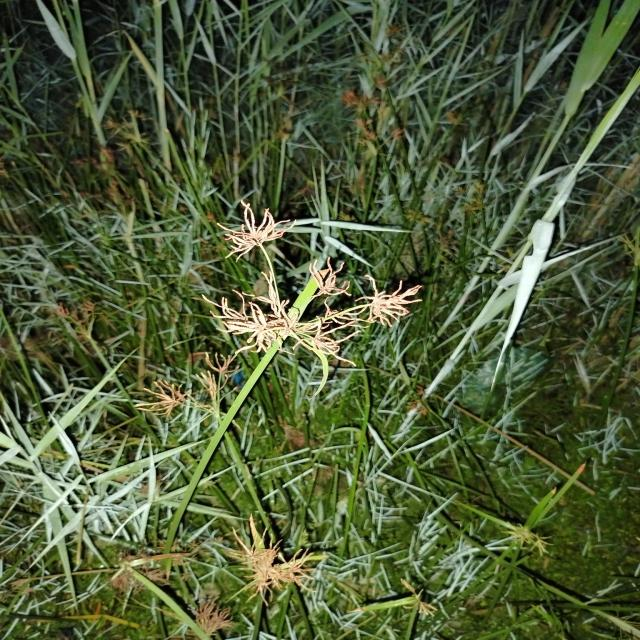cyperus: (204, 200, 408, 357), (345, 21, 418, 160), (132, 349, 242, 437), (222, 512, 321, 608), (74, 110, 151, 212), (183, 587, 231, 640)
